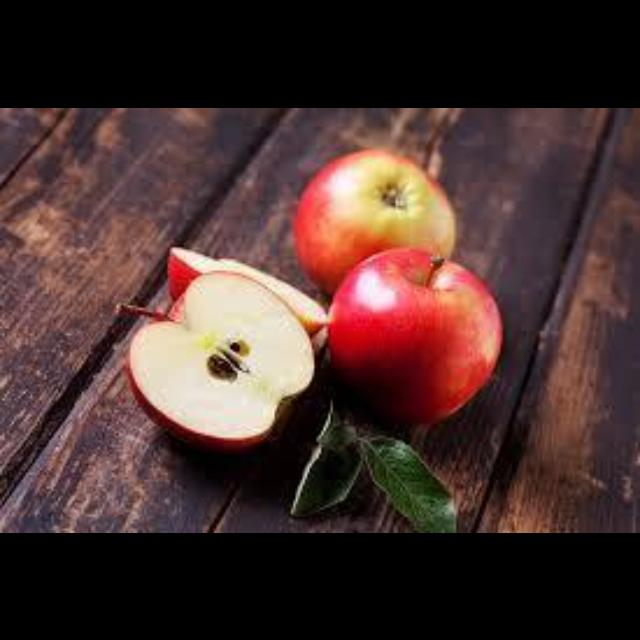apple: (128, 272, 312, 447), (328, 247, 500, 421), (293, 149, 454, 291), (168, 247, 323, 333)
